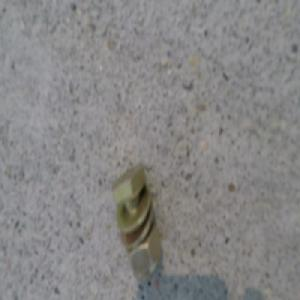BoltNutSet: (113, 165, 162, 273)
